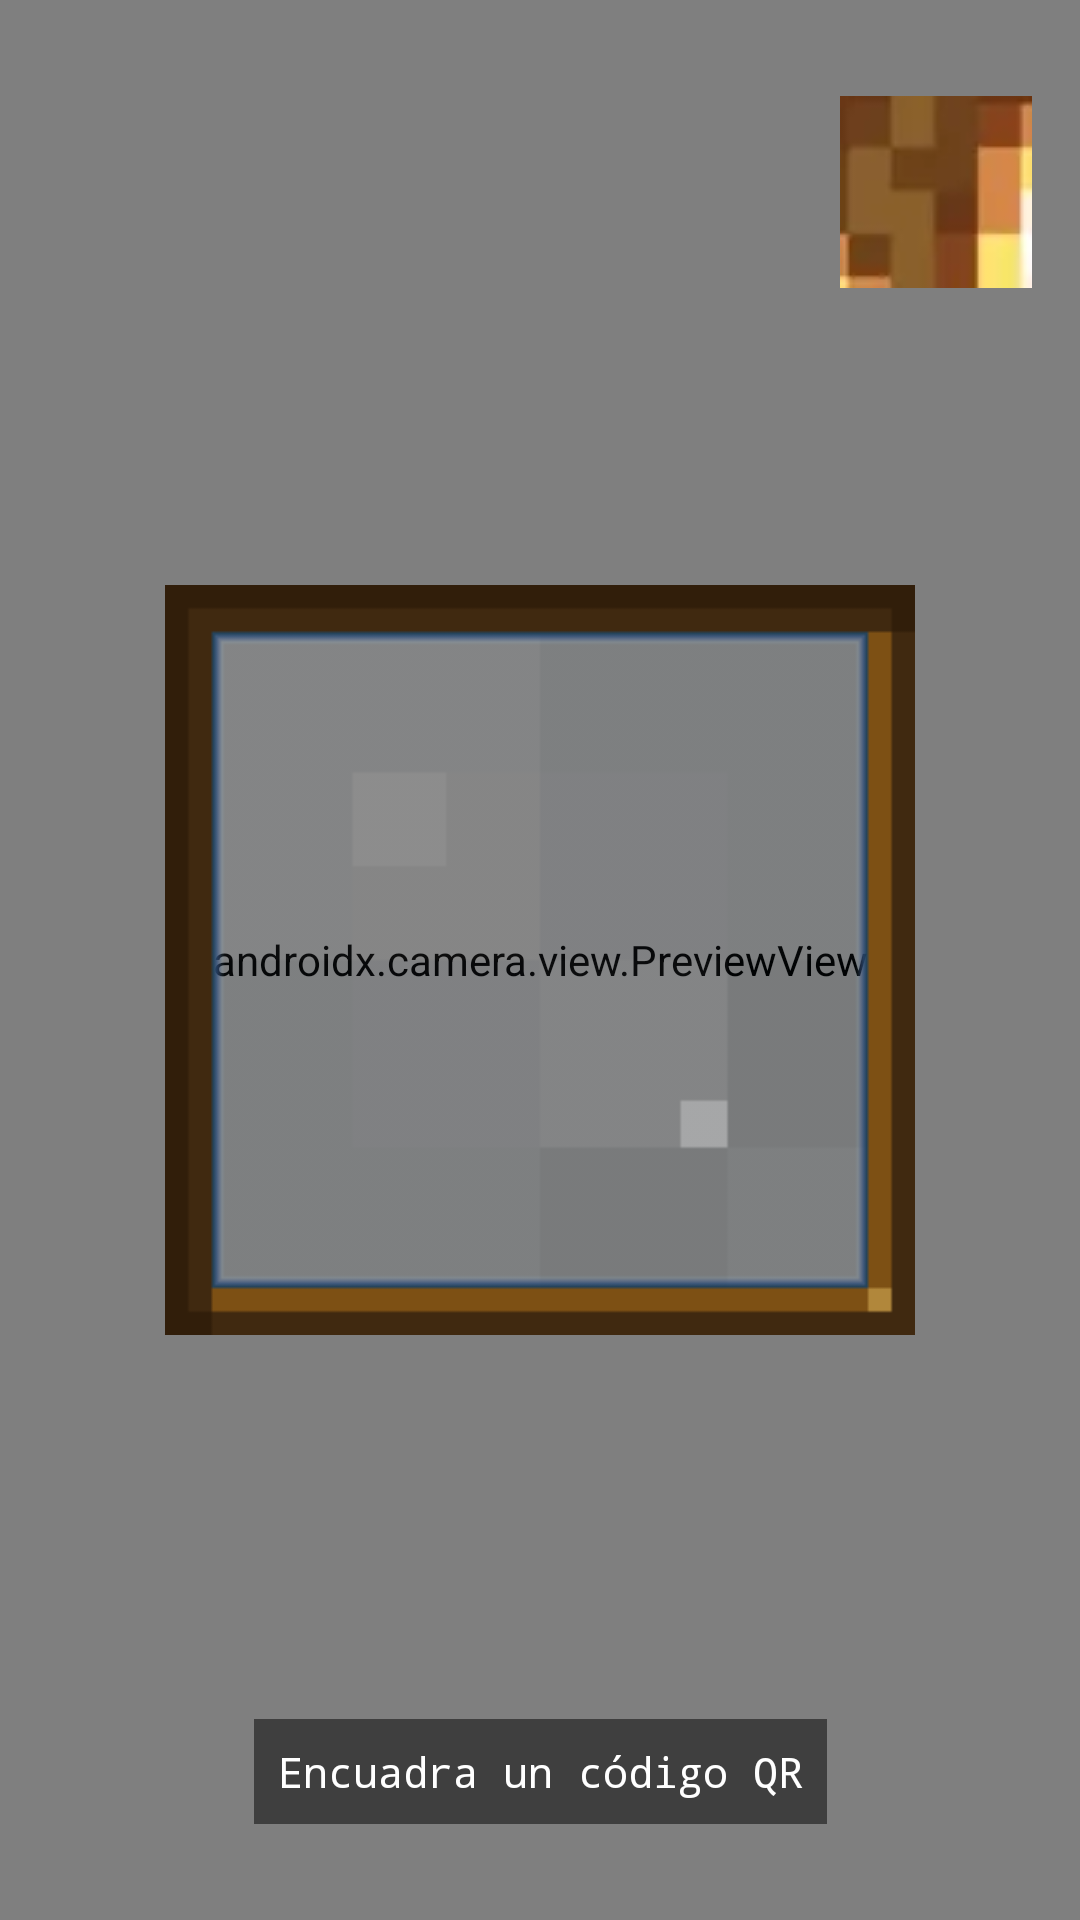

Point at icon controls on the screen. Image size 1080px x 1920px, points as (x=x, y=y).
glowstone block: (x=936, y=192)
